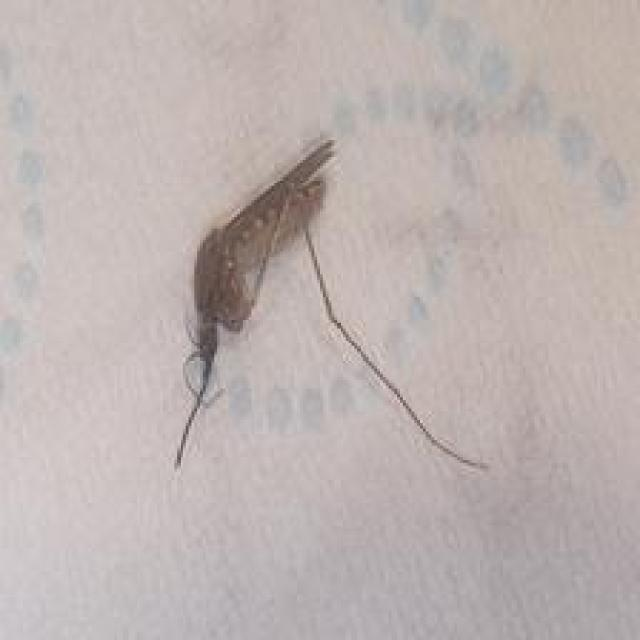Culex: (172, 136, 492, 476)
